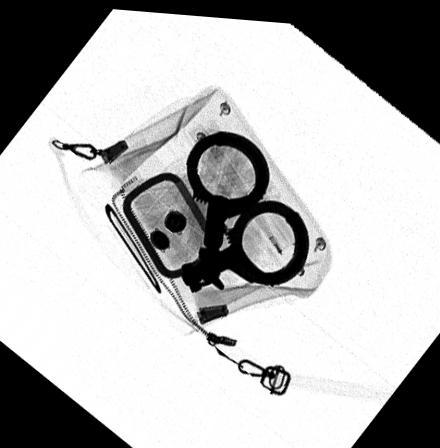HandCuffs: (179, 125, 308, 288)
